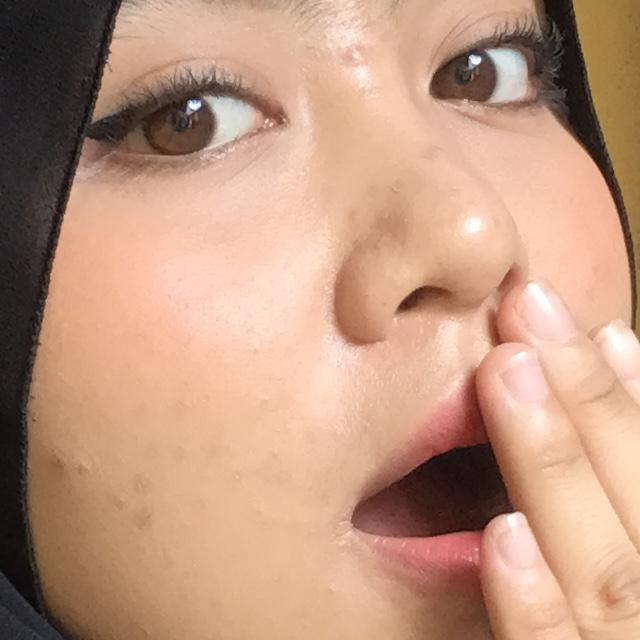ngantuk: (425, 226, 640, 640)
